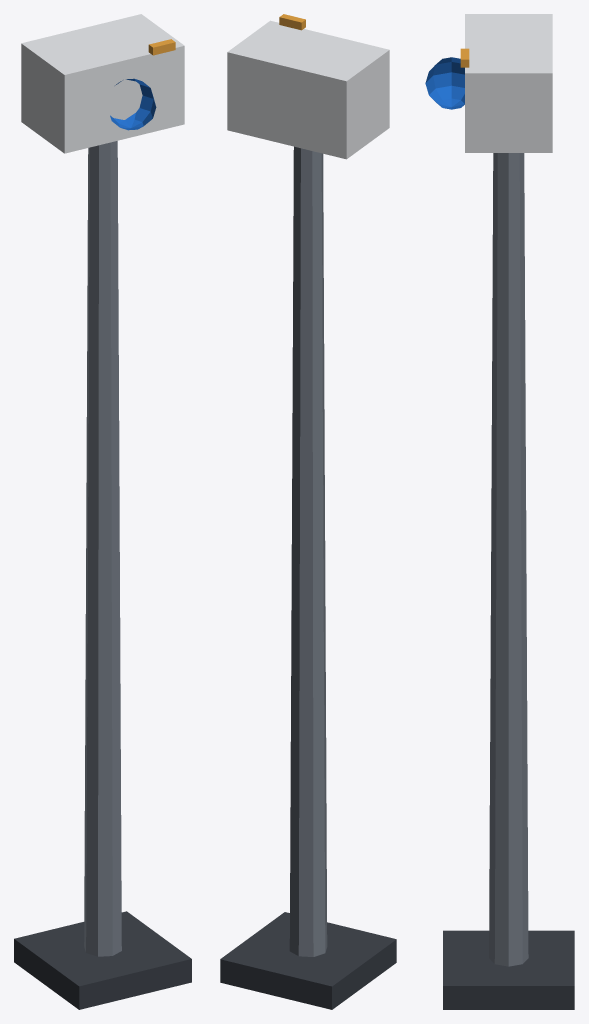
The model's file is sensor.glb.
3 views of the same model, side by side, from view 1: azimuth 30°, elevation 25°; view 2: azimuth 150°, elevation 25°; view 3: azimuth 270°, elevation 25° (orthographic).
Parts seen in each view (by area): view 1: pole, head, base, lens; view 2: pole, head, base; view 3: pole, head, base, lens.
Part boxes in pixels (x1,y1,x2,y2): pole: (84,141,121,956); head: (21,14,184,153); base: (14,911,191,1009); lens: (110,78,156,130); pole: (289,146,327,956); head: (227,20,389,159); base: (220,912,396,1009); pole: (489,153,528,966); head: (465,14,552,152); base: (443,930,574,1009); lens: (425,57,464,109).
Bounding box in the file's own units: 0.32 × 2.38 × 0.34.
